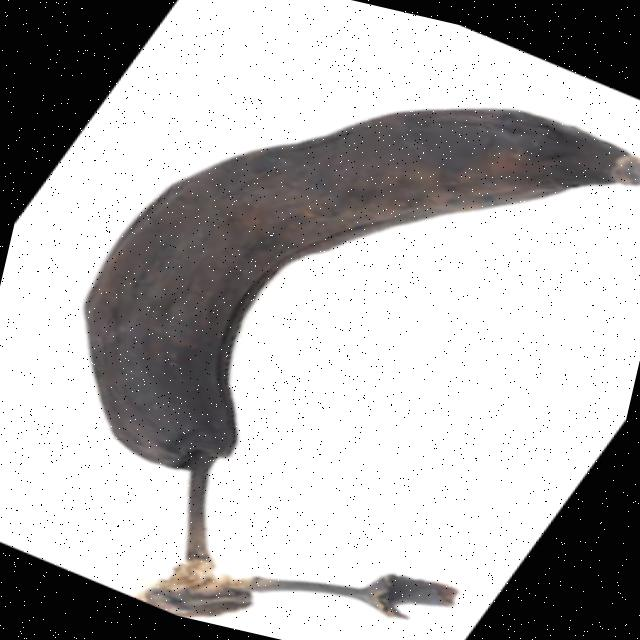Rotten: (45, 19, 640, 576)
